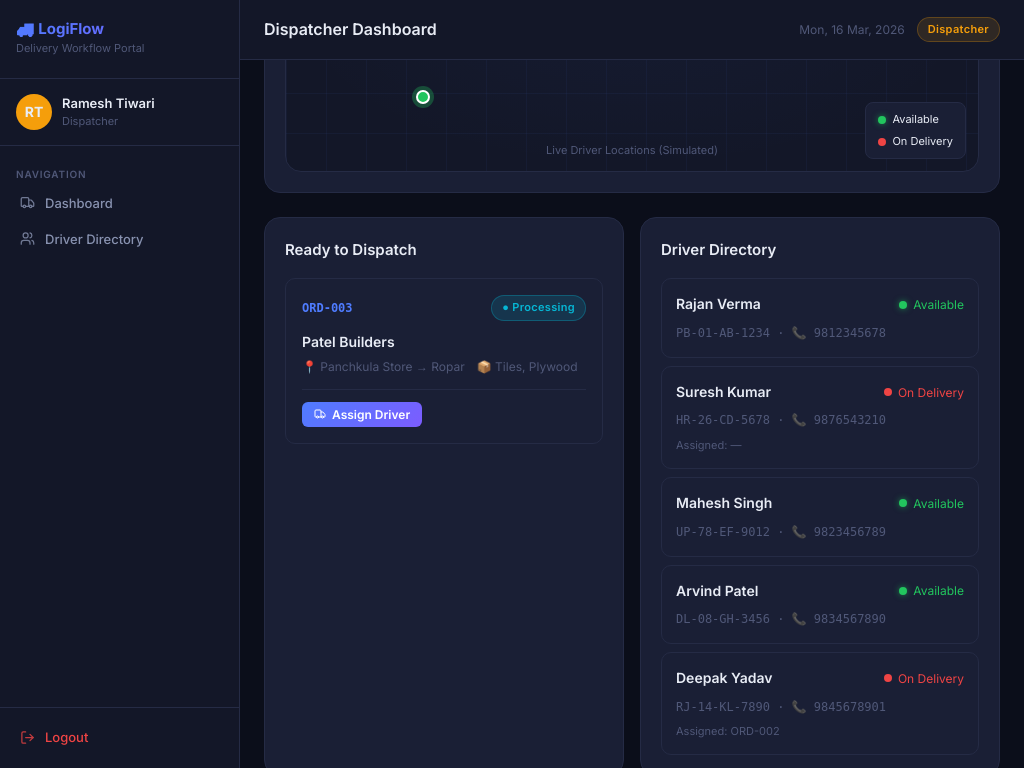
Test: Dispatcher Dashboard › clicking Assign Driver opens the modal
(page scrolled)
Click the button "Assign Driver" at (362, 414), box [302,402,422,426]
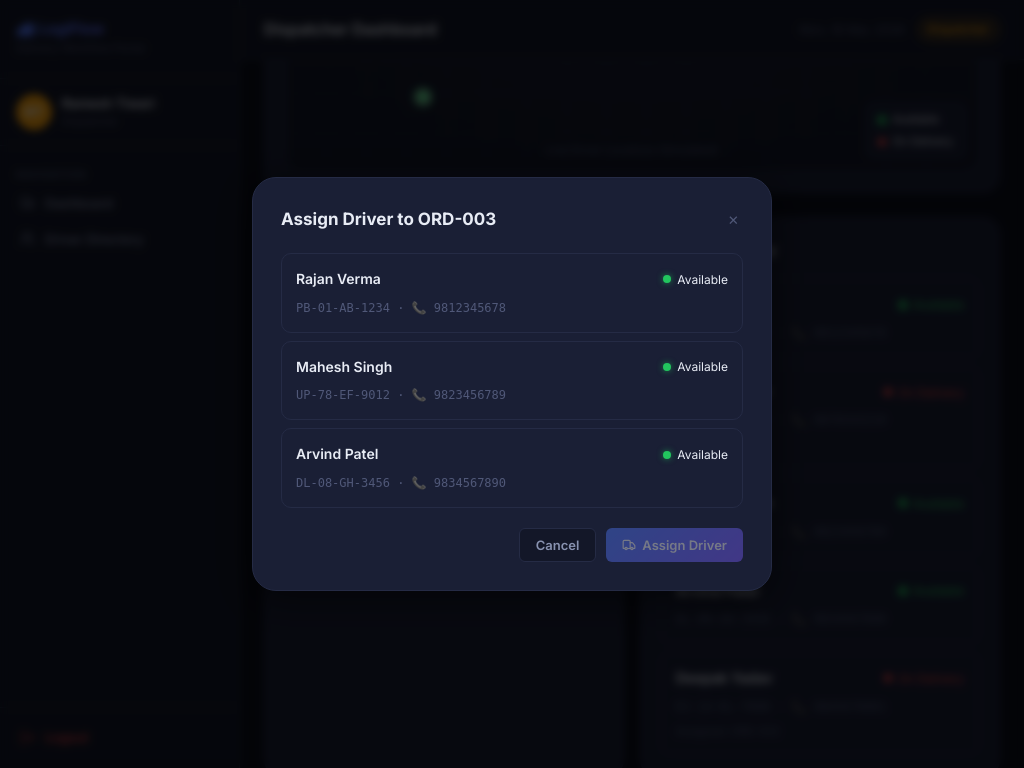
Expected: the heading "Assign Driver to ORD-003" is shown, [281,206,496,233]
